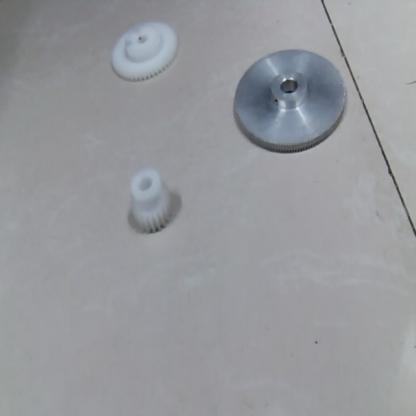FOD: (230, 42, 354, 157), (104, 17, 182, 87), (125, 162, 177, 240)
